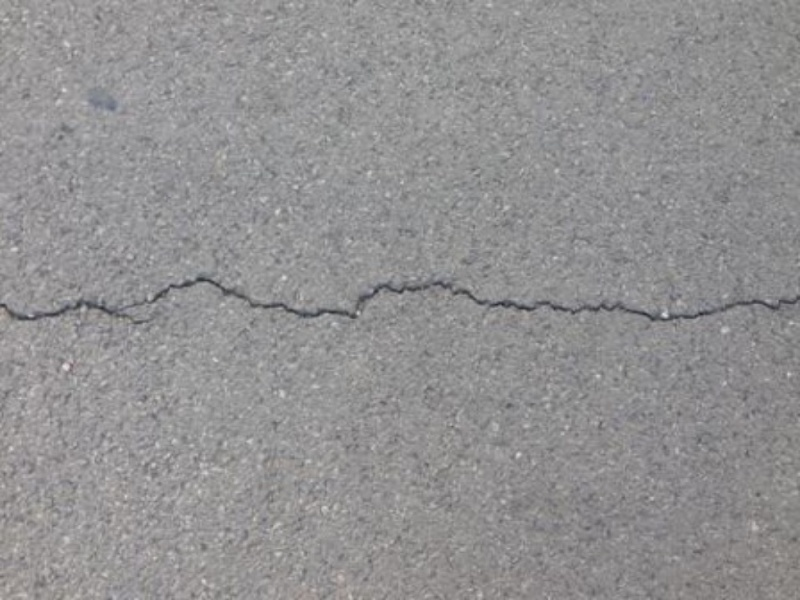crack: (6, 245, 796, 351)
